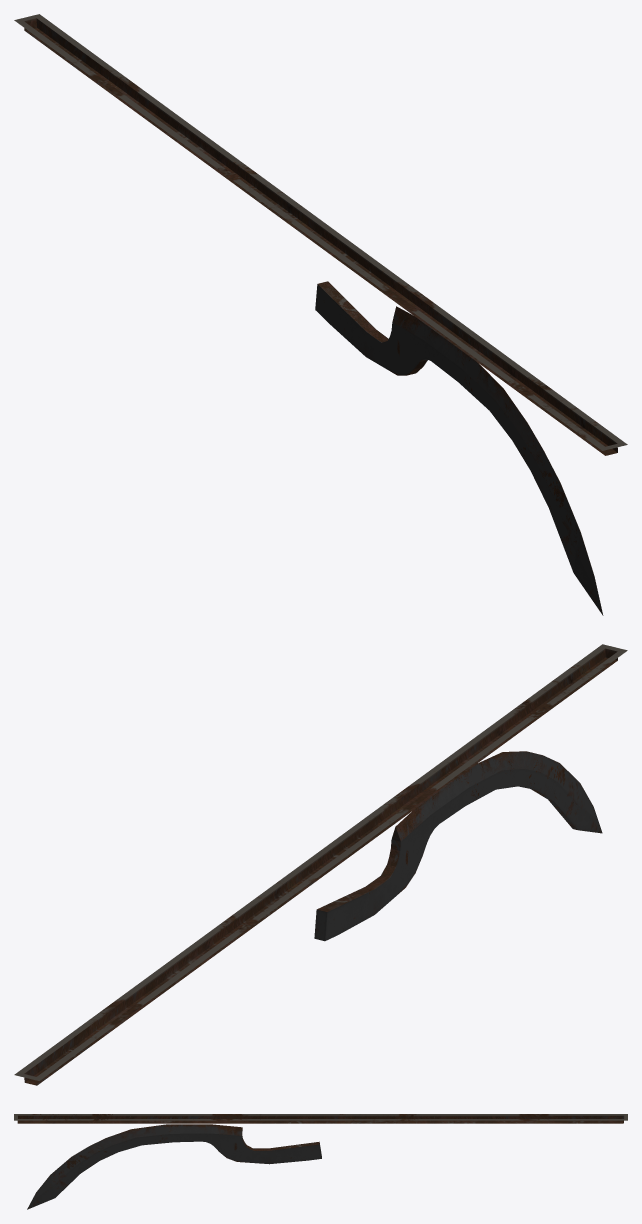
File: trap_gameasset.fbx
3 renders of one model, top to bottom at view 1: azimuth 30°, elevation 25°; view 2: azimuth 150°, elevation 25°; view 3: azimuth 270°, elevation 25°, orthographic. The views are drawn at different scales.
Visible parts, largest first — view 1: GroundLine_low, Blade_low; view 2: GroundLine_low, Blade_low; view 3: GroundLine_low, Blade_low.
Boxes of the visible parts, x1=… form: GroundLine_low: x1=14, y1=14, x2=627, y2=455; Blade_low: x1=315, y1=281, x2=603, y2=615; GroundLine_low: x1=14, y1=644, x2=627, y2=1085; Blade_low: x1=314, y1=751, x2=602, y2=941; GroundLine_low: x1=14, y1=1114, x2=627, y2=1123; Blade_low: x1=27, y1=1124, x2=321, y2=1209.
Size of the model in its own units: 20 by 133 by 800.
1 material, 1 textured.
